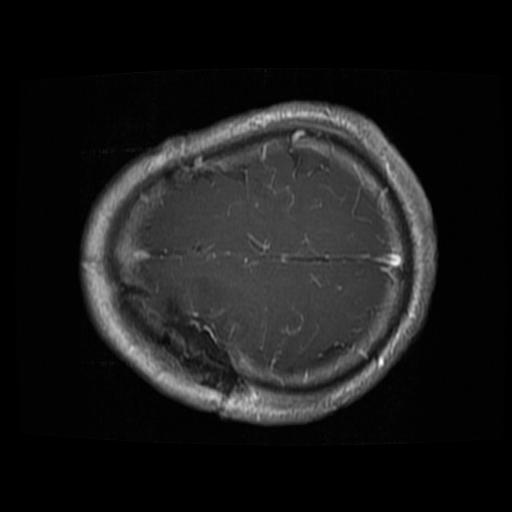glioma: (120, 291, 236, 386)
